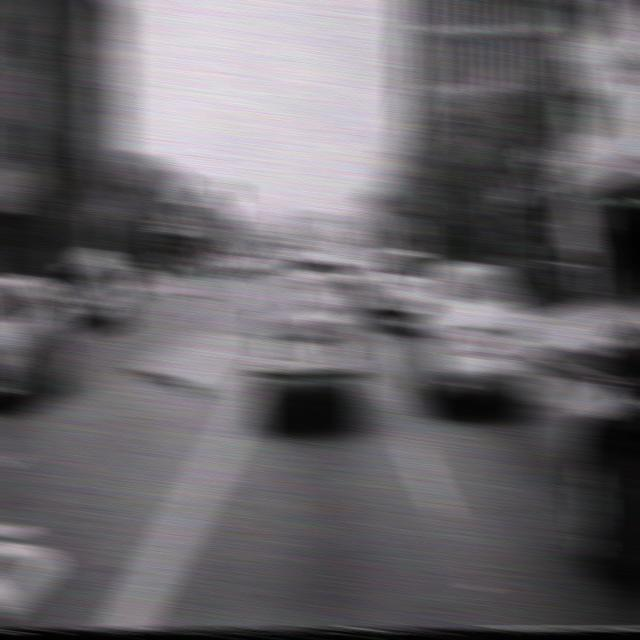noLeftTurn: (202, 199, 228, 247)
